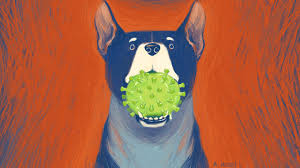dog: (95, 1, 219, 137)
